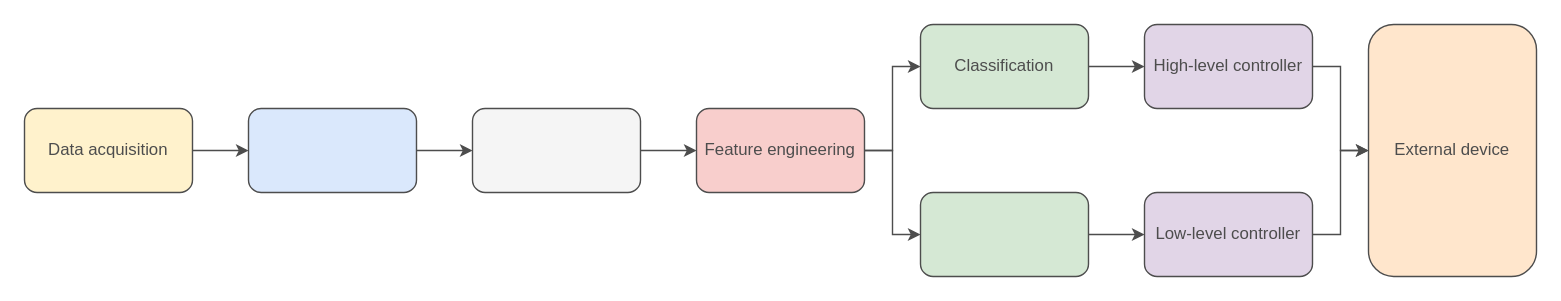
The diagram is 1561 pixels wide and 301 high, and some of its shapes have lost their labels. The box of each missing label's shape, as (x1, y1, x2, y2) in pixels:
Preprocessing: (471, 107, 640, 192)
Regression: (919, 191, 1088, 276)
Windowing: (247, 107, 416, 192)
